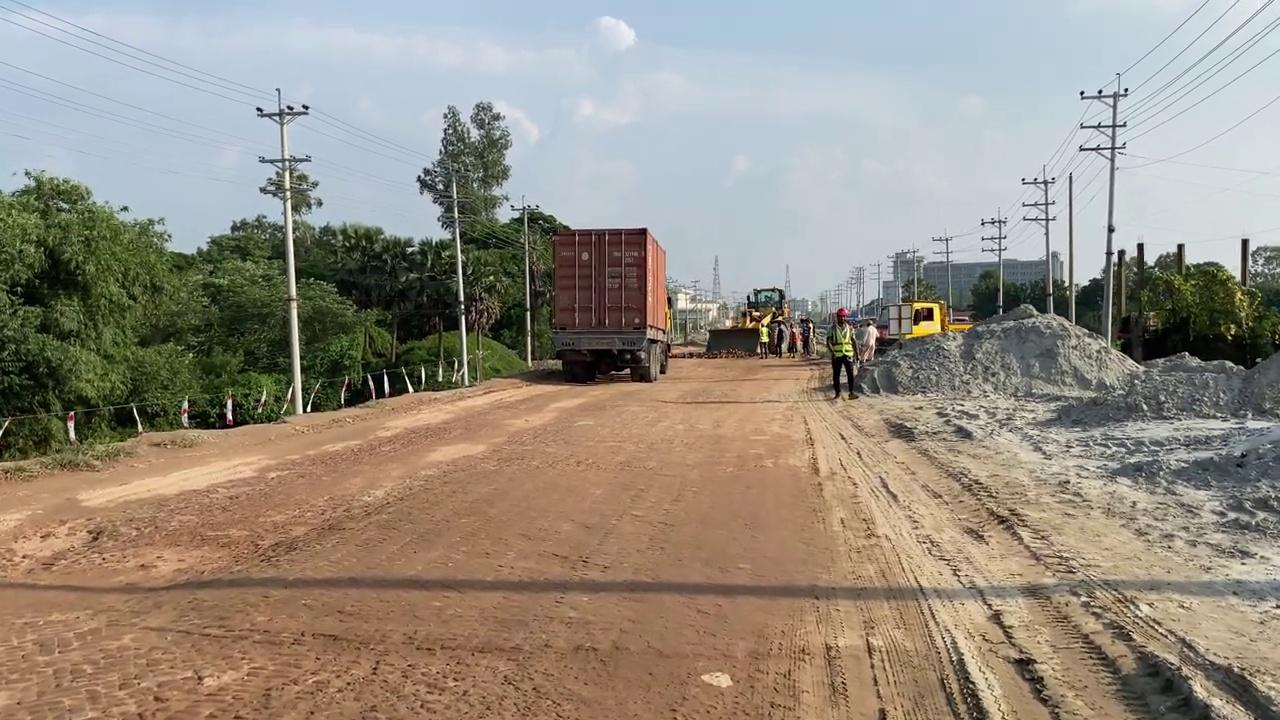Pole: (255, 87, 311, 414), (1078, 73, 1128, 346), (448, 165, 470, 386)
Traffic-sign: (0, 166, 203, 457), (415, 99, 513, 385)
Tree: (548, 226, 670, 383), (705, 286, 792, 356), (873, 298, 973, 351), (738, 286, 791, 328)
